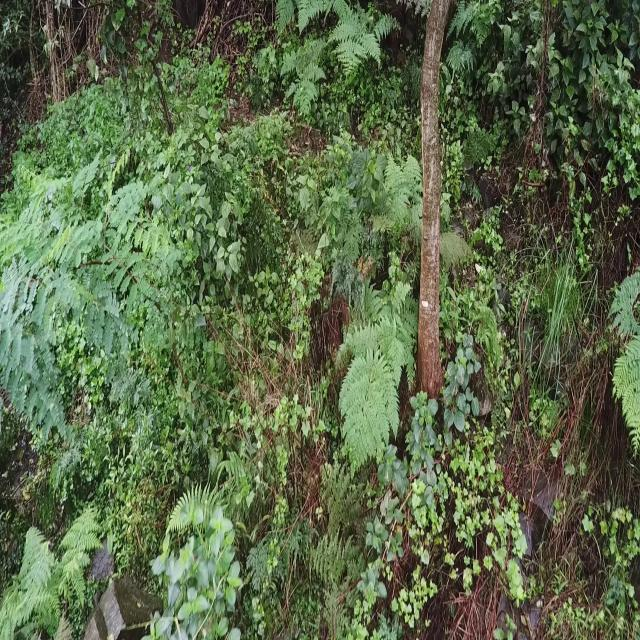Mysore-Thorn-Weed: (0, 152, 165, 418)
